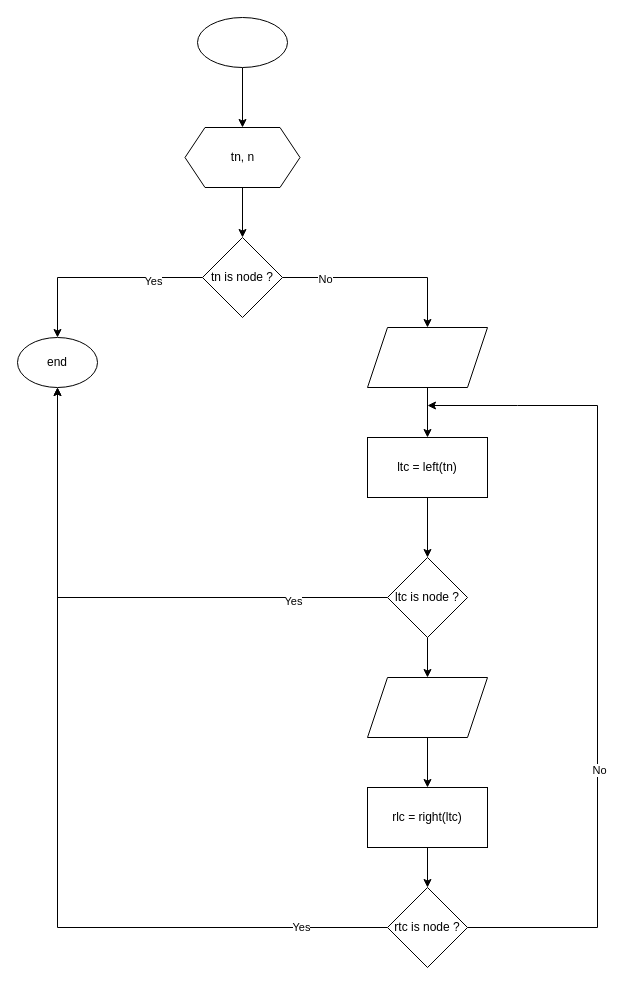
Some shapes in this 623 by 985 pixel diagram are drawn without their labels. Here are the shapes that lost their labels. From the top down, the centre of each, then its label:
At (x=242, y=42): "start".
At (x=427, y=357): "print tn".
At (x=427, y=707): "print ltc".
